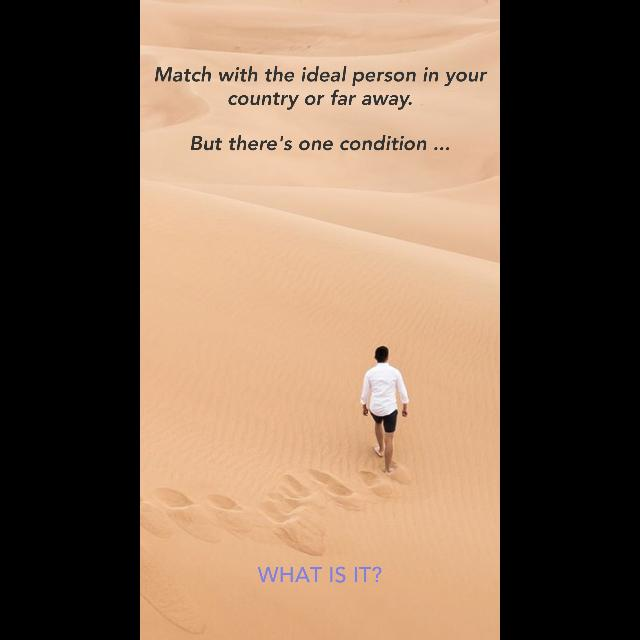backgroundimage: (140, 1, 500, 640)
text: (155, 66, 488, 110), (191, 136, 449, 150), (258, 566, 382, 582)
